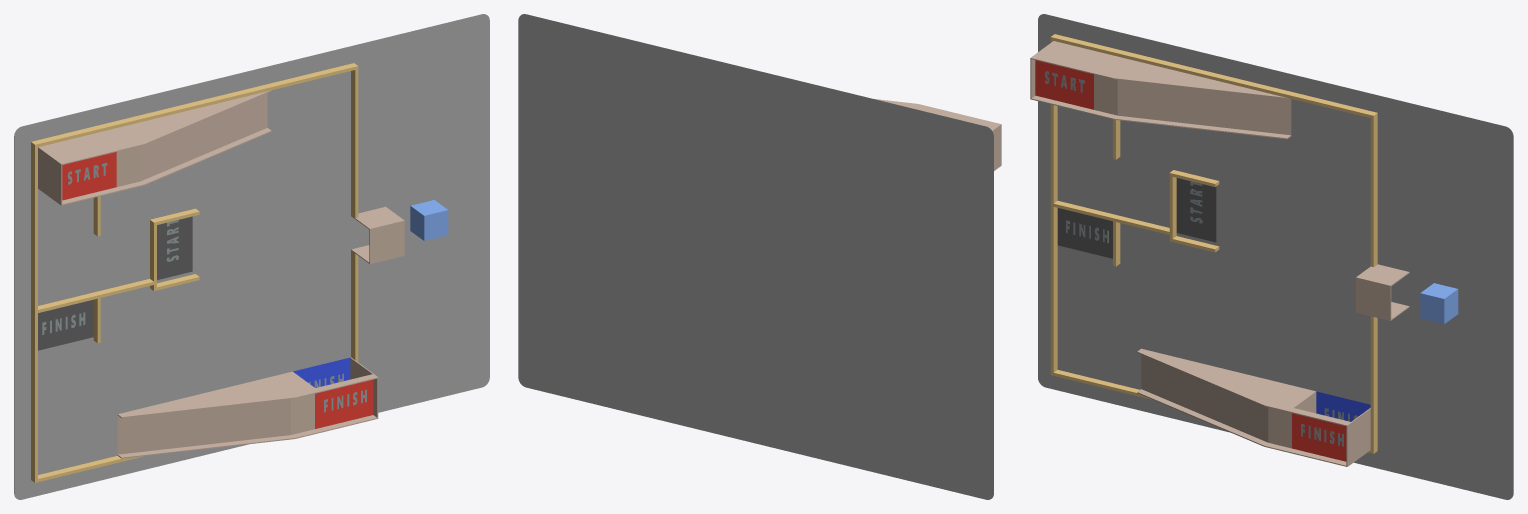
Rendered from MCTR260_2026_Arena_REV01-1.obj.
The picture shows the model from 3 angles, left to right: view 1: azimuth 30°, elevation 25°; view 2: azimuth 150°, elevation 25°; view 3: azimuth 330°, elevation 25°; orthographic projection.
Parts seen in each view (by area): view 1: obj5, obj3, obj2, obj7, obj4, obj1, obj8, obj6; view 2: obj5, obj3; view 3: obj5, obj3, obj2, obj7, obj4, obj8, obj1, obj6.
Boxes of the visible parts, x1,y1,x2,y2 form: obj5: (14,14,489,499); obj3: (38,90,404,458); obj2: (31,63,358,482); obj7: (38,216,192,350); obj4: (62,152,373,428); obj1: (42,162,366,412); obj8: (410,200,448,240); obj6: (293,357,350,387); obj5: (518,14,993,499); obj3: (875,99,1001,170); obj5: (1038,14,1513,499); obj3: (1030,41,1409,466); obj2: (1050,34,1377,453); obj7: (1057,178,1216,258); obj4: (1035,60,1346,461); obj8: (1420,283,1458,324); obj1: (1045,71,1357,446); obj6: (1316,391,1370,421).
Size of the model in its own units: 6000 by 4500 by 599.
